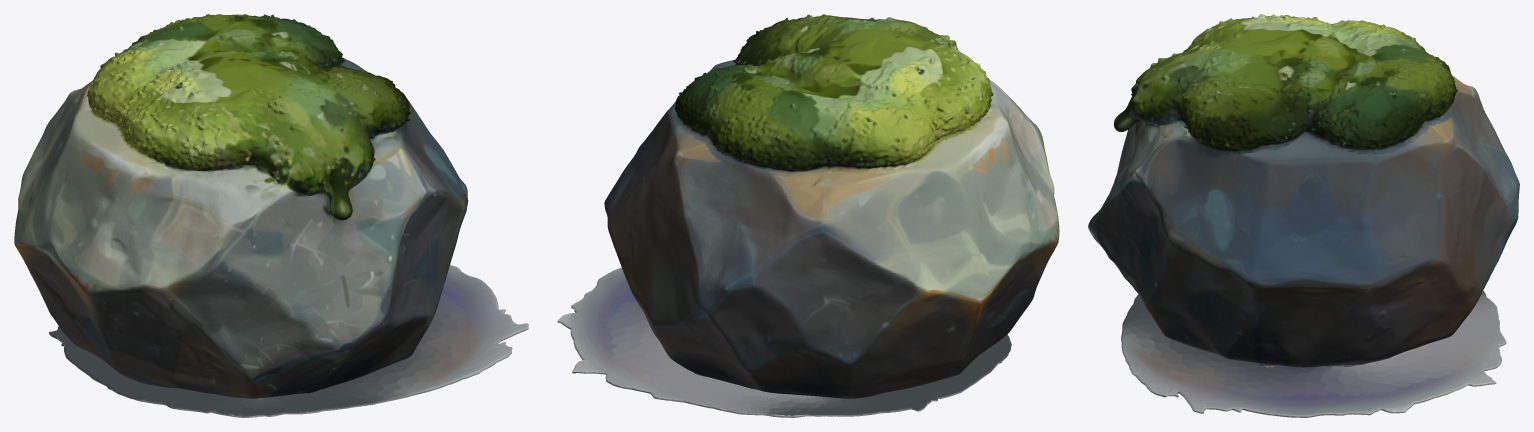
Rendered from rock_boulder_paint.glb.
The picture shows the model from 3 angles, left to right: view 1: azimuth 30°, elevation 25°; view 2: azimuth 150°, elevation 25°; view 3: azimuth 270°, elevation 25°; orthographic projection. The views are drawn at different scales.
Visible parts, largest first — view 1: temp_mesh.ply; view 2: temp_mesh.ply; view 3: temp_mesh.ply.
Part boxes in pixels (<box>): temp_mesh.ply: <box>14,14,528,417</box>; temp_mesh.ply: <box>557,14,1059,417</box>; temp_mesh.ply: <box>1088,14,1519,417</box>.
Bounding box in the file's own units: 1.97 × 1.25 × 1.85.
1 material, 1 textured.
